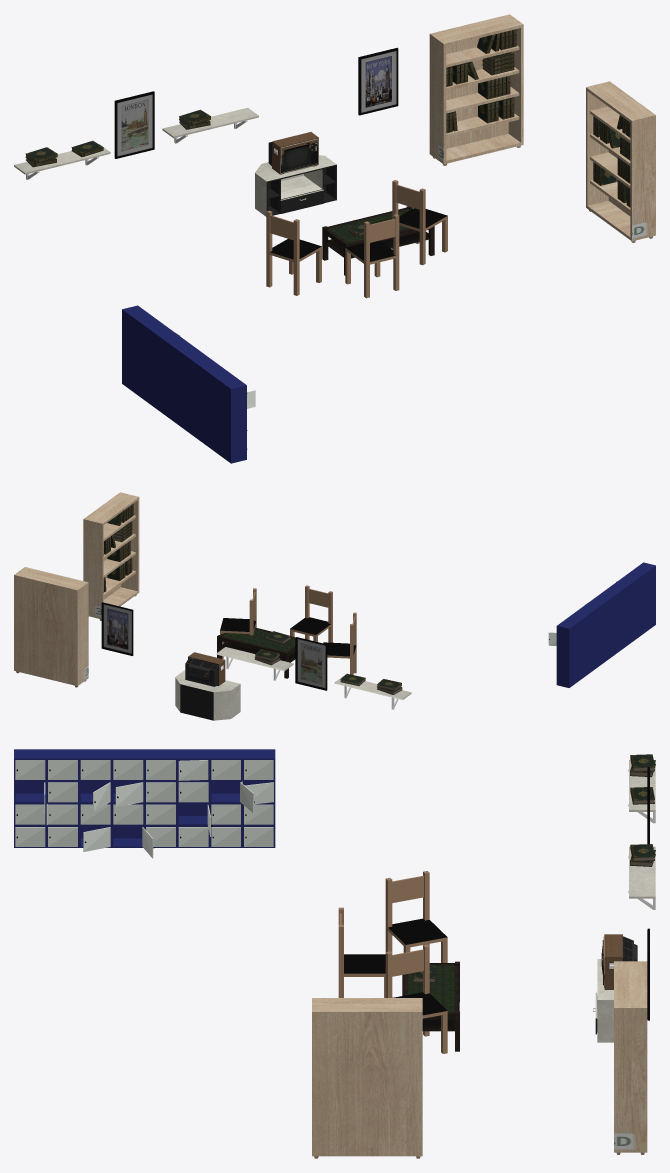
Rendered from salon n7.fbx.
The picture shows the model from 3 angles, top to bottom: view 1: azimuth 30°, elevation 25°; view 2: azimuth 150°, elevation 25°; view 3: azimuth 270°, elevation 25°; orthographic projection. The views are drawn at different scales.
Parts seen in each view (by area): view 1: Bookcase.010, オブジェクト_189.006, Bookcase.012, Cube.036, Main Structure, Cube.041, Cube.042, Cofee Table, Shelf.004, Shelf.005, Wooden Frame, Drawer; view 2: Bookcase.010, オブジェクト_189.006, Bookcase.012, Cube.036, Main Structure, Cofee Table, Cube.042, Cube.041, Shelf.004, Shelf.005, TV Back, Wooden Frame; view 3: オブジェクト_189.006, Bookcase.012, Cube.036, Bookcase.010, Cofee Table, Shelf.005, Shelf.004, Main Structure, Wooden Frame.
Boxes of the visible parts, bbox=[...] form: Bookcase.010: bbox=[429, 14, 523, 165]; オブジェクト_189.006: bbox=[122, 305, 255, 463]; Bookcase.012: bbox=[586, 81, 655, 242]; Cube.036: bbox=[266, 180, 447, 298]; Main Structure: bbox=[255, 155, 336, 216]; Cube.041: bbox=[358, 47, 398, 115]; Cube.042: bbox=[114, 91, 154, 158]; Cofee Table: bbox=[322, 206, 434, 275]; Shelf.004: bbox=[14, 140, 110, 179]; Shelf.005: bbox=[162, 107, 258, 143]; Wooden Frame: bbox=[272, 132, 318, 174]; Drawer: bbox=[280, 189, 323, 213]; Bookcase.010: bbox=[14, 567, 88, 687]; オブジェクト_189.006: bbox=[548, 562, 655, 687]; Bookcase.012: bbox=[83, 492, 139, 620]; Cube.036: bbox=[220, 585, 356, 674]; Main Structure: bbox=[175, 670, 240, 720]; Cofee Table: bbox=[217, 627, 295, 678]; Cube.042: bbox=[295, 637, 327, 690]; Cube.041: bbox=[101, 602, 133, 655]; Shelf.004: bbox=[334, 673, 411, 709]; Shelf.005: bbox=[216, 647, 293, 680]; TV Back: bbox=[185, 658, 218, 686]; Wooden Frame: bbox=[188, 652, 225, 685]; オブジェクト_189.006: bbox=[14, 749, 275, 858]; Bookcase.012: bbox=[312, 998, 422, 1158]; Cube.036: bbox=[338, 871, 447, 1053]; Bookcase.010: bbox=[614, 961, 647, 1154]; Cofee Table: bbox=[402, 961, 459, 1051]; Shelf.005: bbox=[628, 844, 655, 909]; Shelf.004: bbox=[628, 754, 655, 823]; Main Structure: bbox=[597, 959, 613, 1042]; Wooden Frame: bbox=[604, 934, 622, 989].
Size of the model in its own units: 1047 by 241 by 885.
22 materials, 11 textured.
